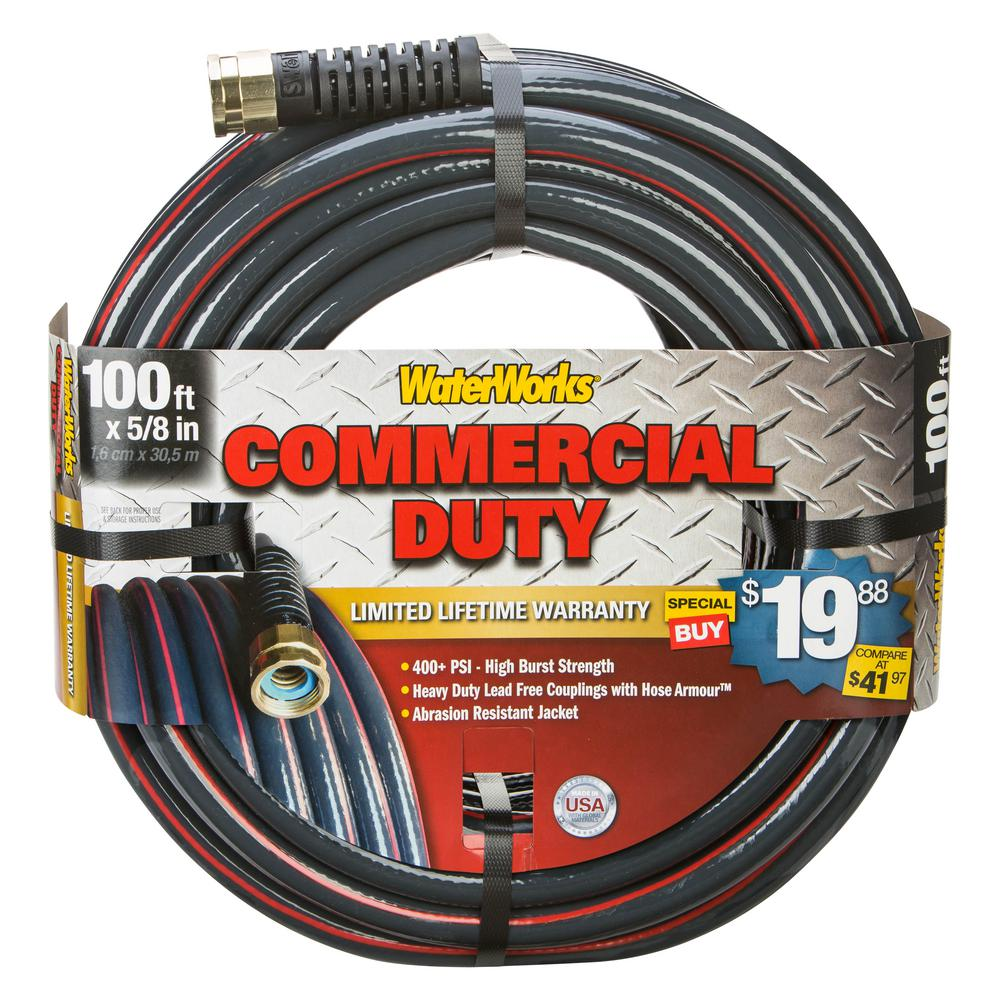Nonrec_Tangler: (57, 8, 941, 946)
